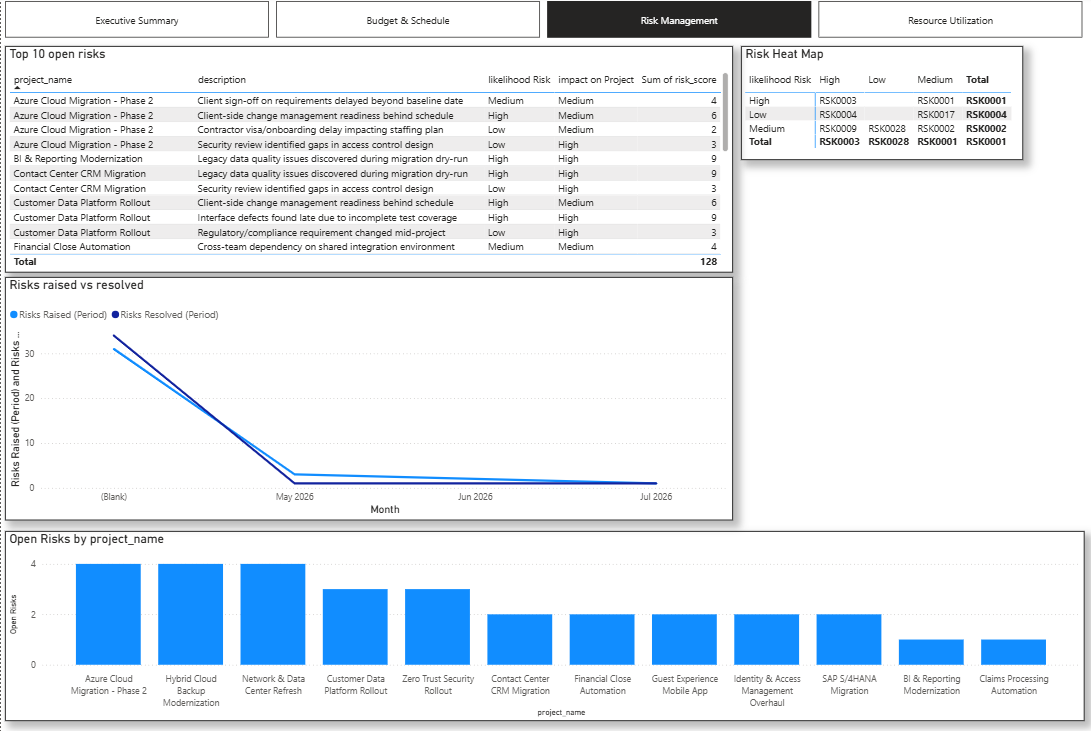

What the dashboard file says about the page in this screenshot:
{"tool":"powerbi","page":{"name":"Risk Management","canvas":[1500,1100],"ordinal":2},"visuals":[{"type":"pivotTable","title":"Risk Heat Map","fields":{"Rows":["Risklog.likelihood Risk"],"Columns":["Risklog.impact on Project"],"Values":["Min(Risklog.risk_id)"]},"box":[1012.9,67.1,385.7,155.7],"z":0},{"type":"tableEx","title":"Top 10 open risks","fields":{"Values":["Projects.project_name","Risklog.description","Risklog.likelihood Risk","Risklog.impact on Project","Sum(Risklog.risk_score)"]},"box":[5.7,67.1,995.7,310],"z":1000},{"type":"clusteredColumnChart","fields":{"Category":["Projects.project_name"],"Y":["_Measures.Open Risks"]},"box":[5,730,1476.7,260],"z":2000},{"type":"lineChart","title":"Risks raised vs resolved","fields":{"Y":["_Measures.Risks Raised (Period)","_Measures.Risks Resolved (Period)"],"Category":["Calendar.Month"]},"box":[5.7,382.9,995.7,332.9],"z":3000},{"type":"pageNavigator","box":[5,5,1476.7,50],"z":7000}]}

Visuals, with their boxes on the page's 1500x1100 design canvas (x1, y1, x2, y2). These are canvas units, not pixel positions in the 1091x731 screenshot, which may show the page scaled, cropped or inside an application window:
"Risk Heat Map" pivotTable: 1013/67/1399/223
"Top 10 open risks" tableEx: 6/67/1001/377
clusteredColumnChart - Projects.project_name x _Measures.Open Risks: 5/730/1482/990
"Risks raised vs resolved" lineChart: 6/383/1001/716
pageNavigator: 5/5/1482/55
